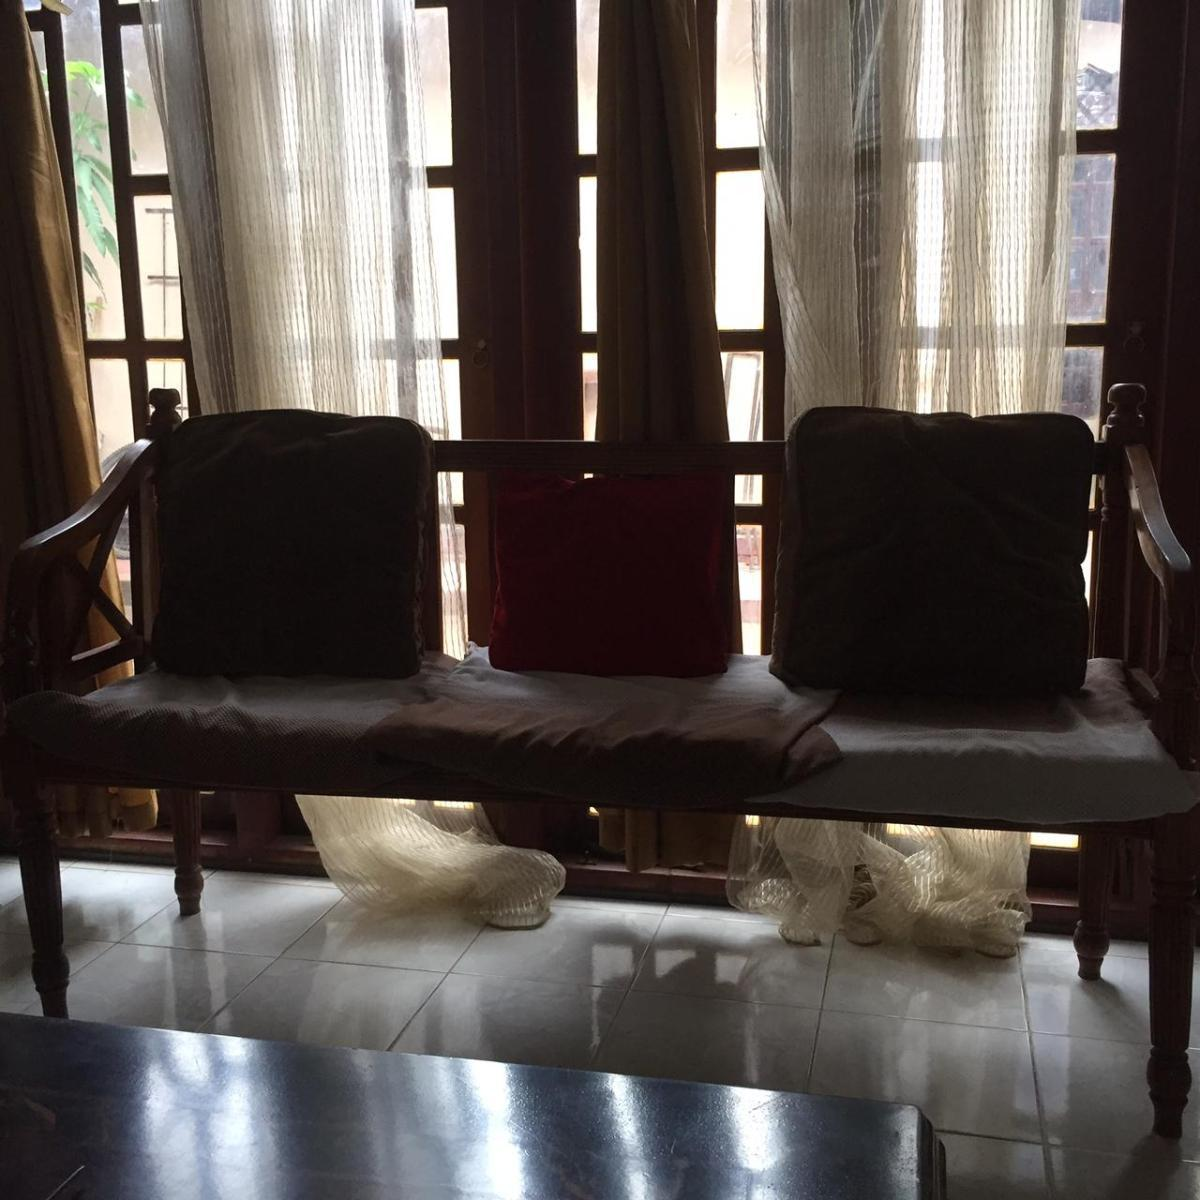Sofa: (14, 383, 1195, 1130)
